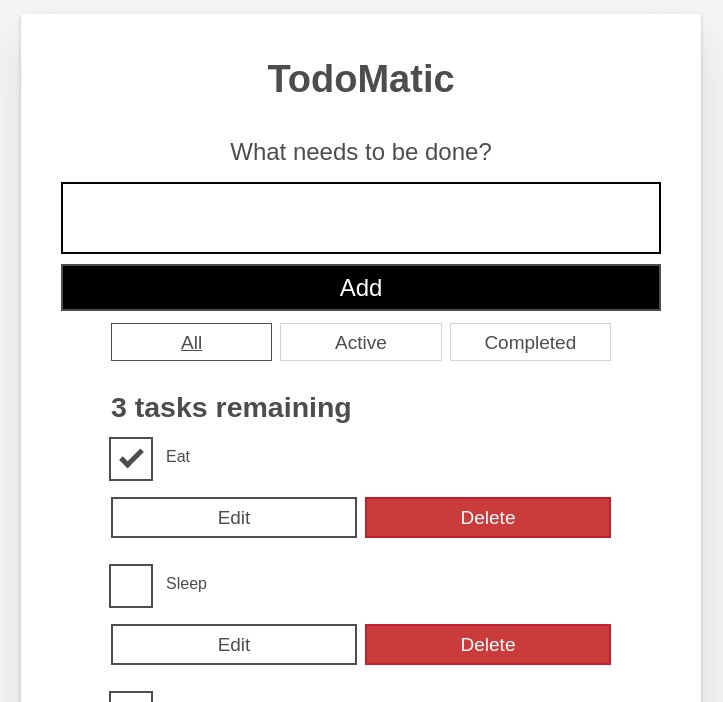
To-do app › with a checked task › can show the number of active tasks
What coordinates should you click on to do the following:
click the button "Active"
I would click on:
 (361, 343)
Its box is [280,323,441,362].
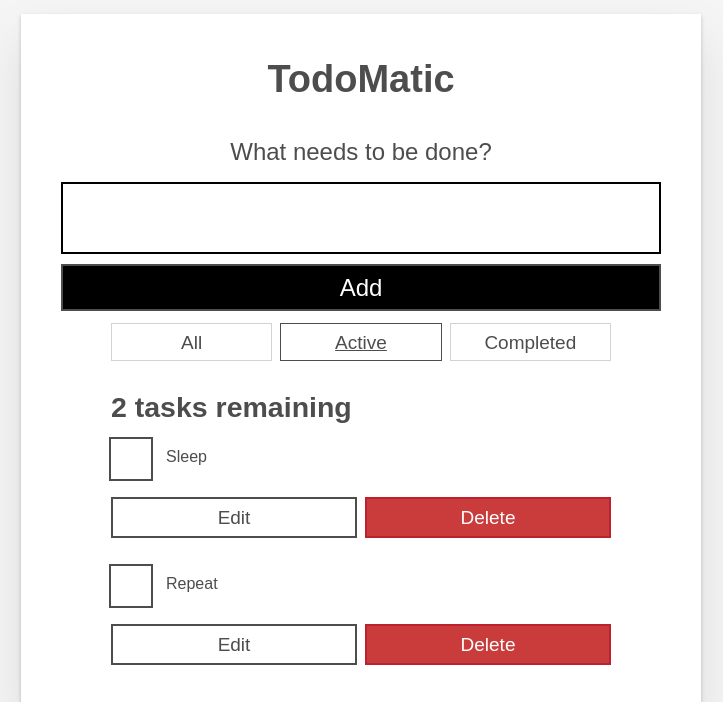
Expected: the heading with class "todo-count" shows "2", [111,391,352,423]
